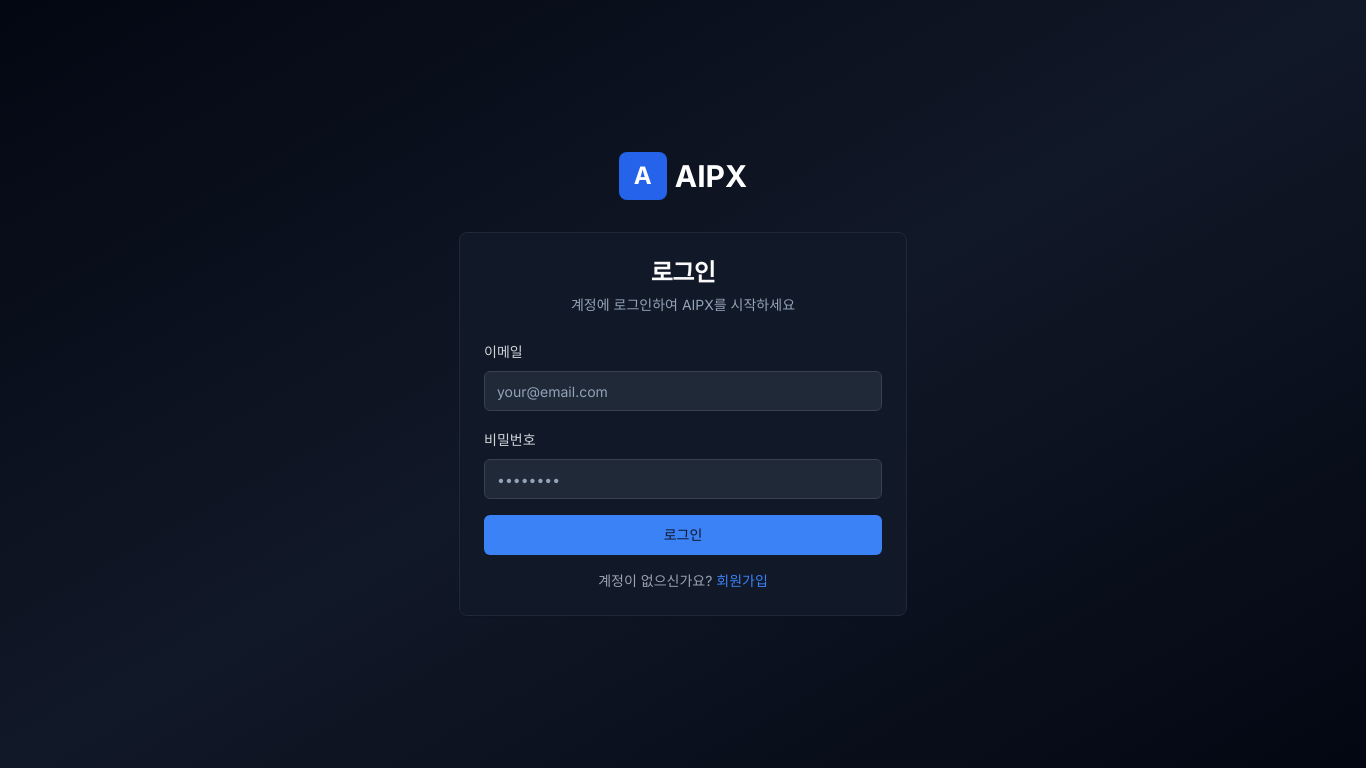
LoginPage › displays error message on failed login
In the field named "이메일 주소": (683, 391) left=484, top=371, right=882, bottom=411, type "test@example.com"
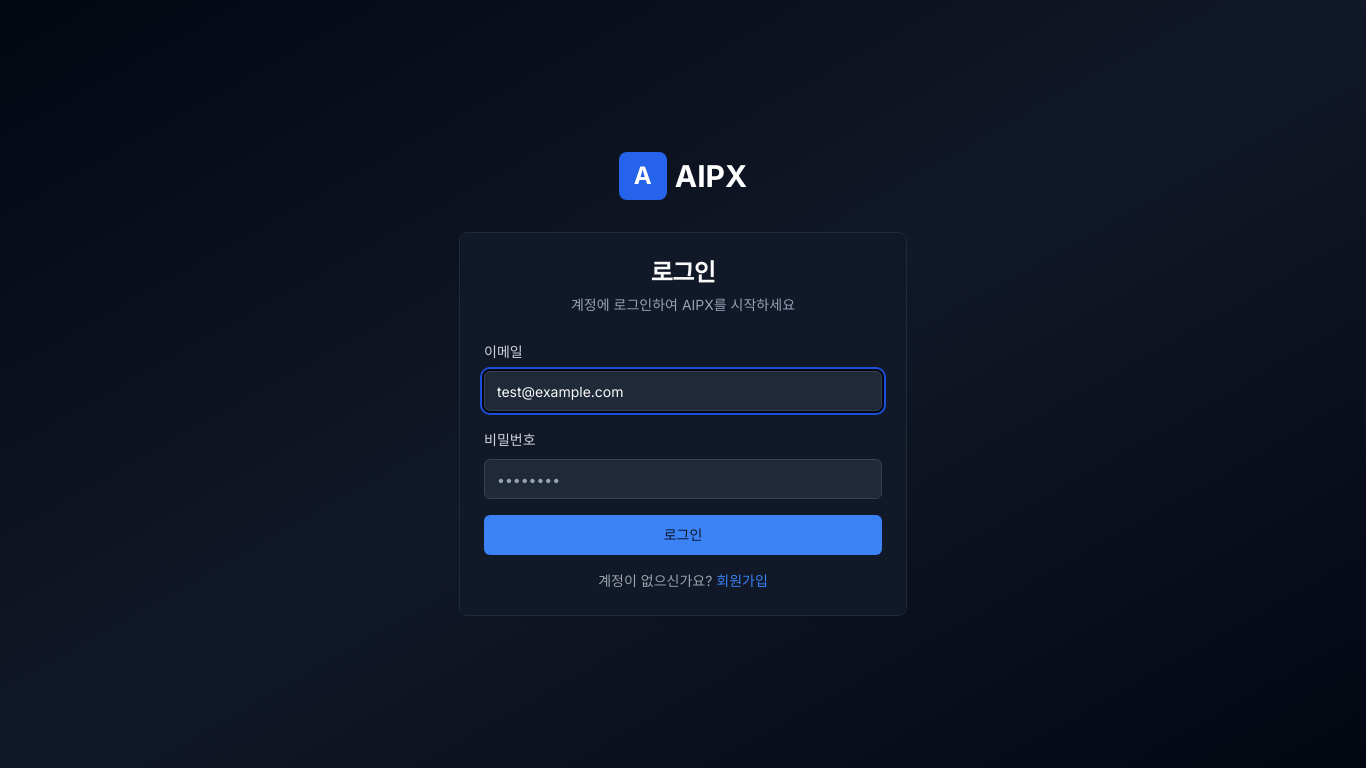
In the password field labelled "비밀번호": (683, 479) left=484, top=459, right=882, bottom=499, type "wrongpassword"
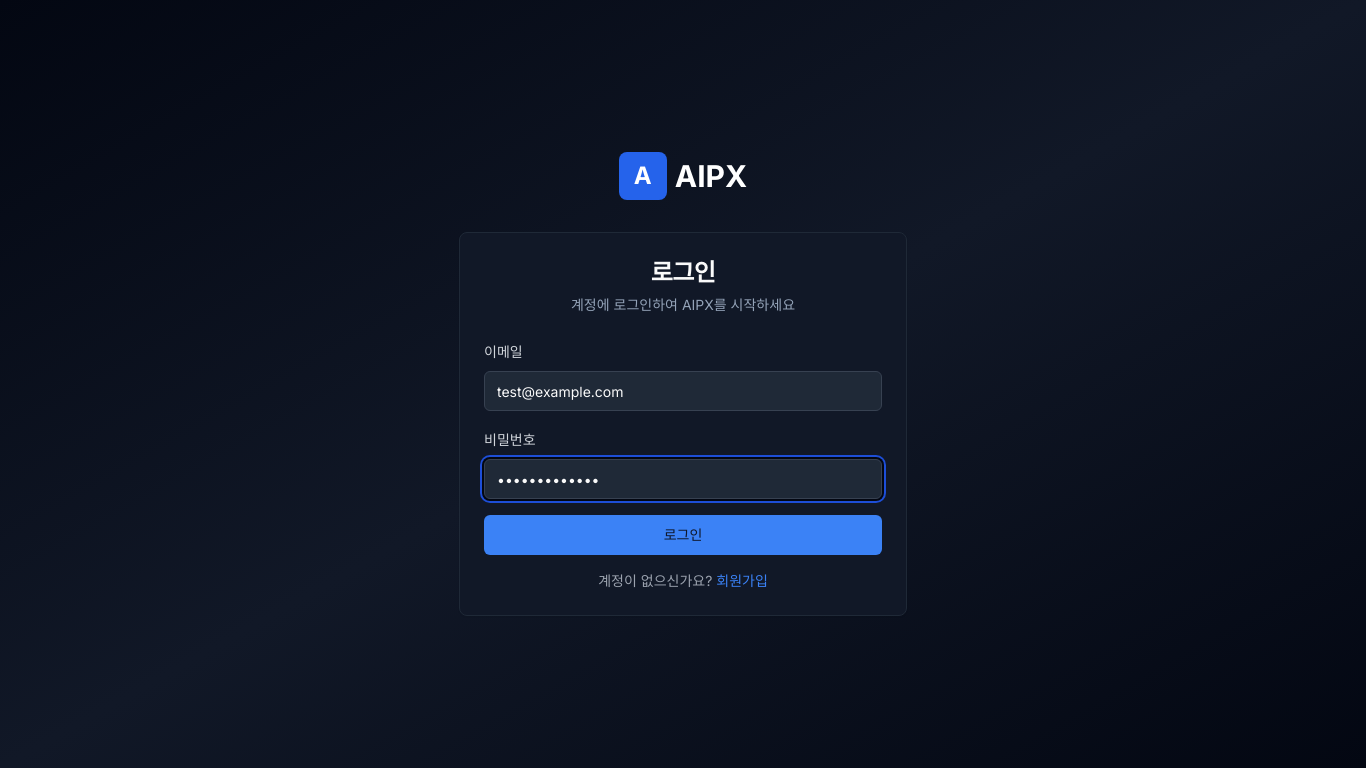
Click the button "로그인": (683, 535) left=484, top=515, right=882, bottom=555
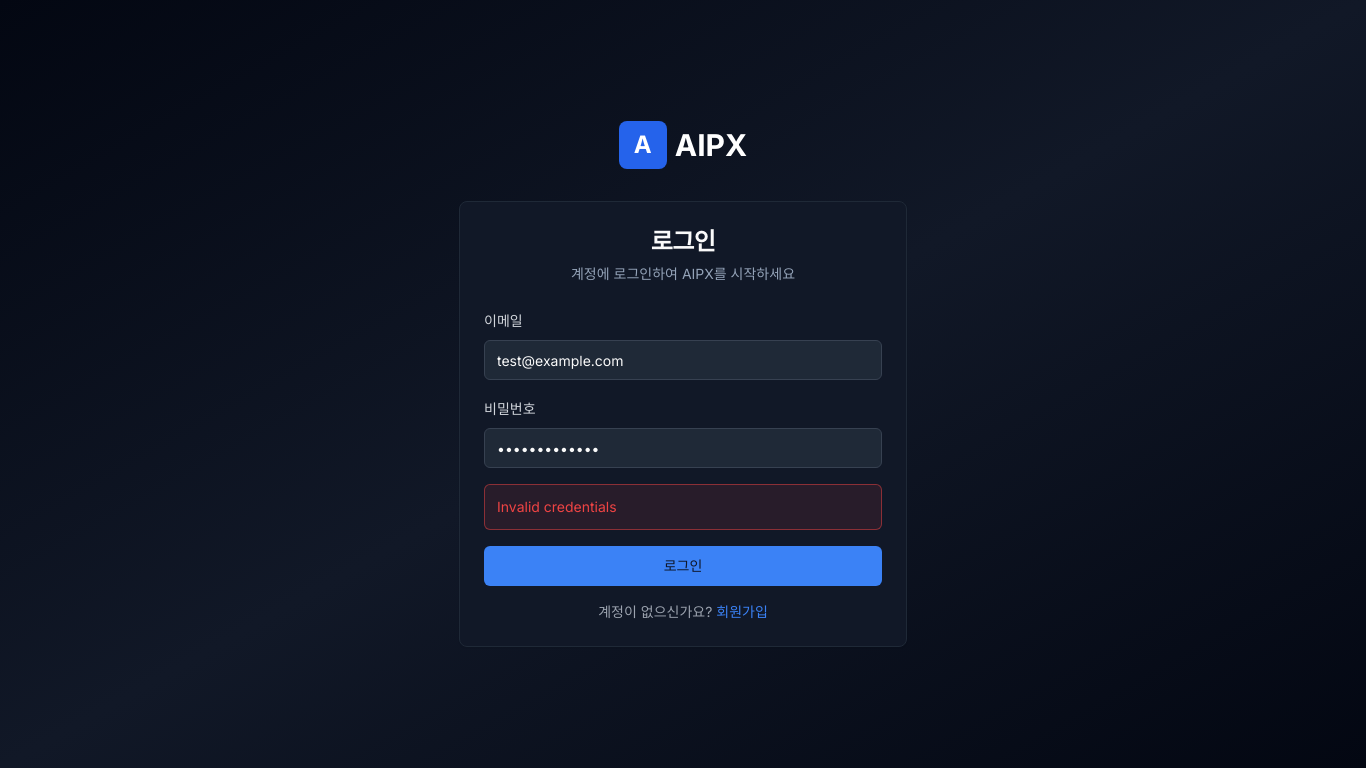
Check: the message reads "Invalid credentials", box left=497, top=498, right=617, bottom=515
